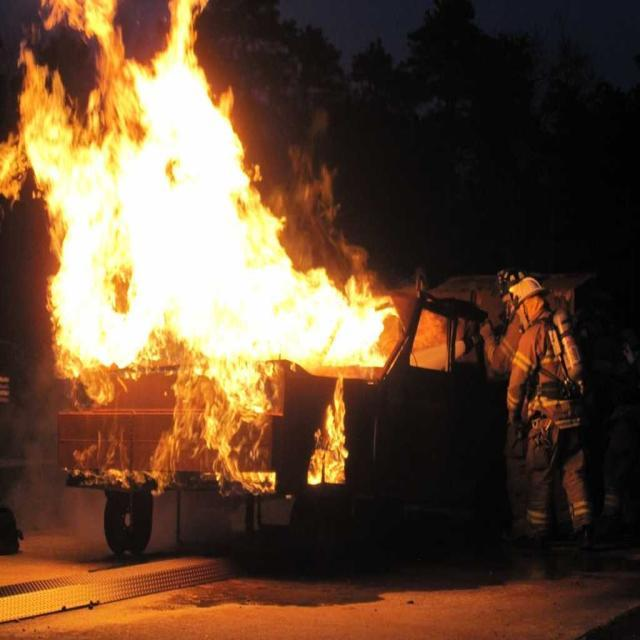Fire: (64, 168, 242, 350), (144, 82, 210, 162), (256, 283, 328, 347)
